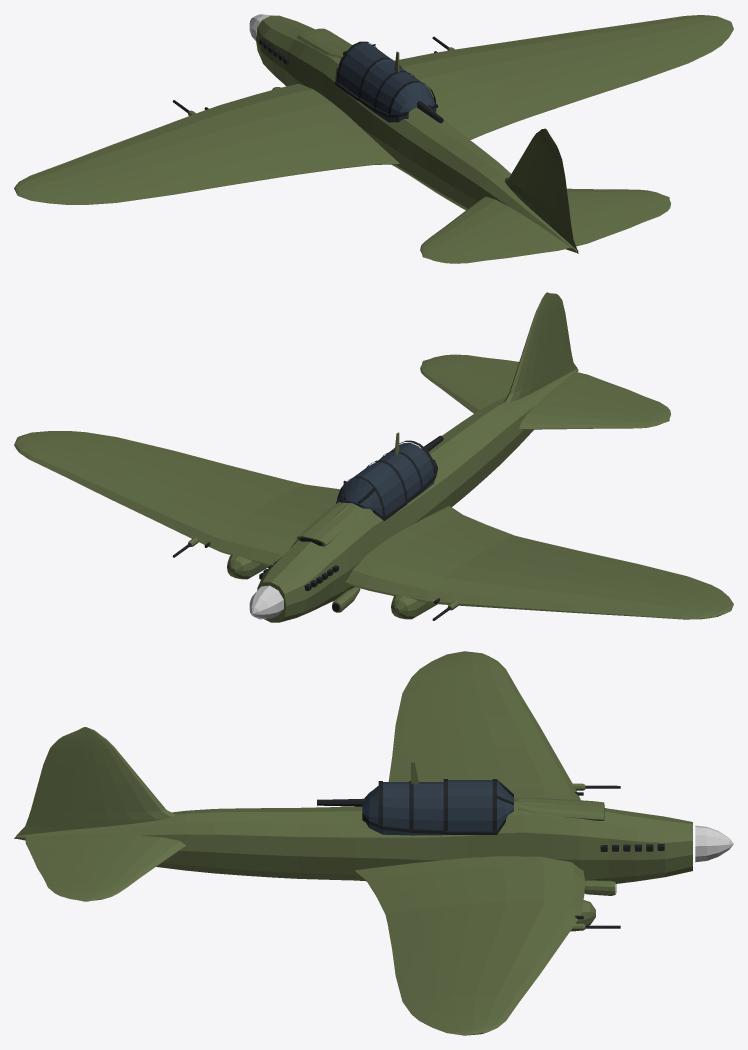
3 renders of one model, top to bottom at view 1: azimuth 30°, elevation 25°; view 2: azimuth 150°, elevation 25°; view 3: azimuth 270°, elevation 25°, orthographic. The views are drawn at different scales.
Parts seen in each view (by area): view 1: Wing L, Wing R, Fuselage, Flap L, Cockpit Glass, Flap R, Stabilizer L, Aileron R, Elevator L, Aileron L, Rudder, Elevator R (+4 smaller); view 2: Wing L, Wing R, Fuselage, Stabilizer L, Cockpit Glass, Stabilizer R, Vertical Fin, Flap L, Flap R, Rudder, Elevator L, Aileron R (+6 smaller); view 3: Fuselage, Wing R, Wing L, Cockpit Glass, Vertical Fin, Stabilizer R, Rudder, Flap R, Elevator R, Aileron L, Aileron R, Canopy Frame (+3 smaller).
Boxes of the visible parts, x1,y1,x2,y2 form: Wing L: [14, 84, 399, 204]; Wing R: [394, 15, 733, 117]; Fuselage: [256, 15, 578, 252]; Flap L: [208, 139, 388, 185]; Cockpit Glass: [338, 43, 436, 122]; Flap R: [442, 79, 588, 139]; Stabilizer L: [420, 196, 539, 257]; Aileron R: [578, 37, 721, 95]; Elevator L: [423, 226, 570, 263]; Aileron L: [59, 170, 218, 204]; Rudder: [542, 129, 578, 253]; Elevator R: [570, 197, 670, 246]; Wing L: [346, 506, 733, 620]; Wing R: [14, 431, 335, 565]; Fuselage: [257, 368, 578, 622]; Stabilizer L: [519, 387, 668, 429]; Cockpit Glass: [337, 443, 435, 516]; Stabilizer R: [420, 360, 514, 413]; Vertical Fin: [504, 293, 549, 402]; Flap L: [431, 510, 588, 561]; Flap R: [208, 464, 340, 501]; Rudder: [546, 292, 578, 382]; Elevator L: [556, 371, 670, 420]; Aileron R: [59, 431, 218, 470]; Fuselage: [17, 798, 692, 883]; Wing R: [355, 856, 620, 1035]; Wing L: [392, 651, 620, 800]; Cockpit Glass: [362, 780, 513, 835]; Vertical Fin: [85, 727, 175, 828]; Stabilizer R: [75, 834, 185, 901]; Rudder: [14, 727, 85, 838]; Flap R: [359, 867, 432, 950]; Elevator R: [25, 835, 84, 901]; Aileron L: [393, 667, 439, 750]; Aileron R: [392, 949, 439, 1020]; Canopy Frame: [362, 779, 513, 834].
Bounding box in the file's own units: 14.6 × 2.88 × 11.57.
